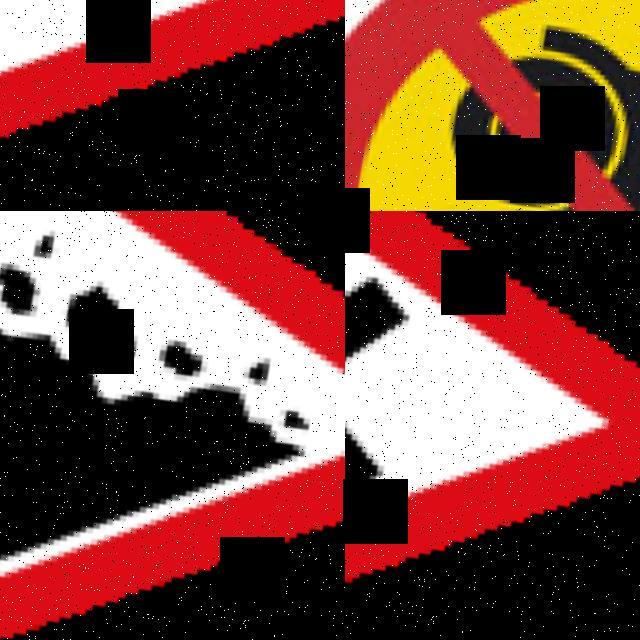48: (345, 0, 640, 211)
Falling rocks: (0, 211, 345, 640)
Uneven road: (0, 0, 345, 211)
Y-junction: (345, 211, 640, 640)
